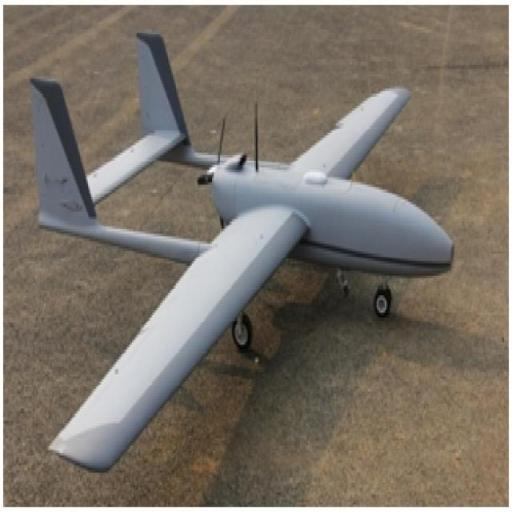uav: (18, 20, 474, 490)
